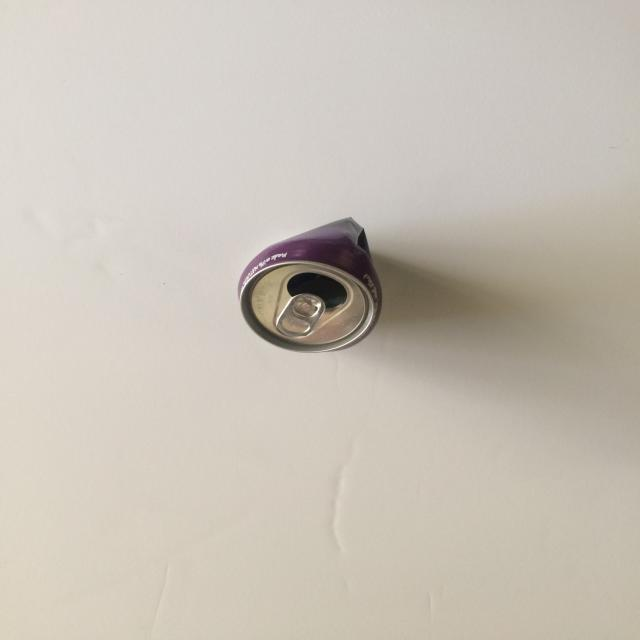metal: (236, 216, 383, 353)
